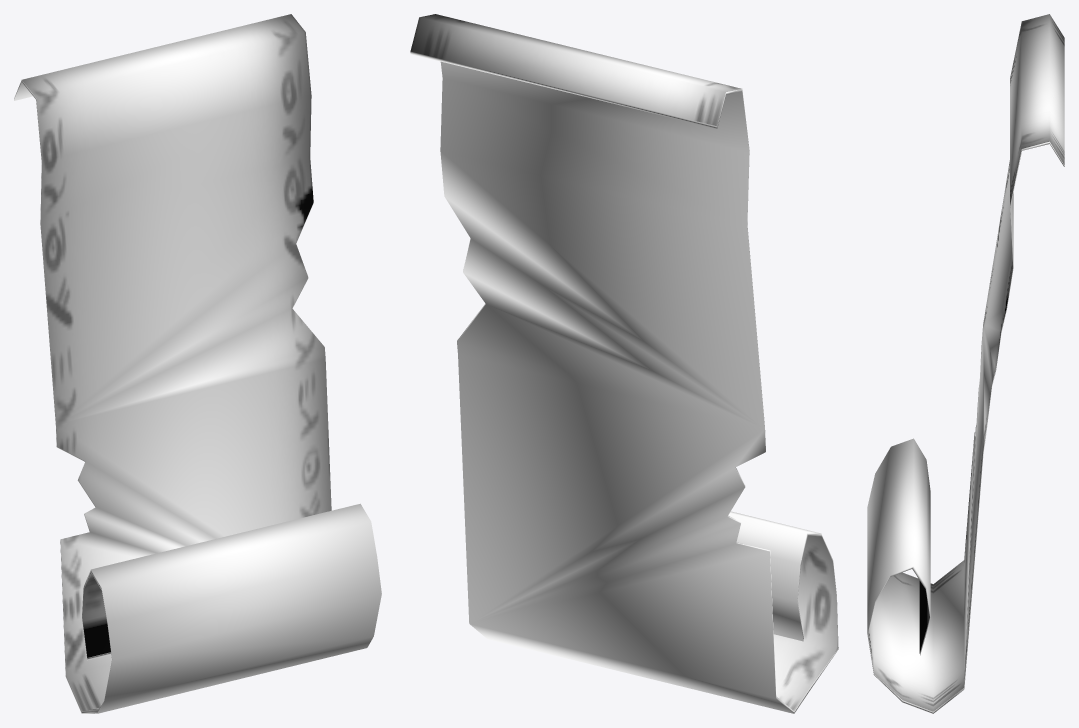
The model's file is Scroll Unrolled.fbx.
The picture shows the model from 3 angles, left to right: view 1: azimuth 30°, elevation 25°; view 2: azimuth 150°, elevation 25°; view 3: azimuth 270°, elevation 25°; orthographic projection. The views are drawn at different scales.
Visible parts, largest first — view 1: Plane.003; view 2: Plane.003; view 3: Plane.003.
Boxes of the visible parts, x1,y1,x2,y2 form: Plane.003: (14, 14, 381, 713); Plane.003: (410, 14, 838, 713); Plane.003: (867, 14, 1064, 713).
Size of the model in its own units: 3.32 by 6.74 by 2.11.
